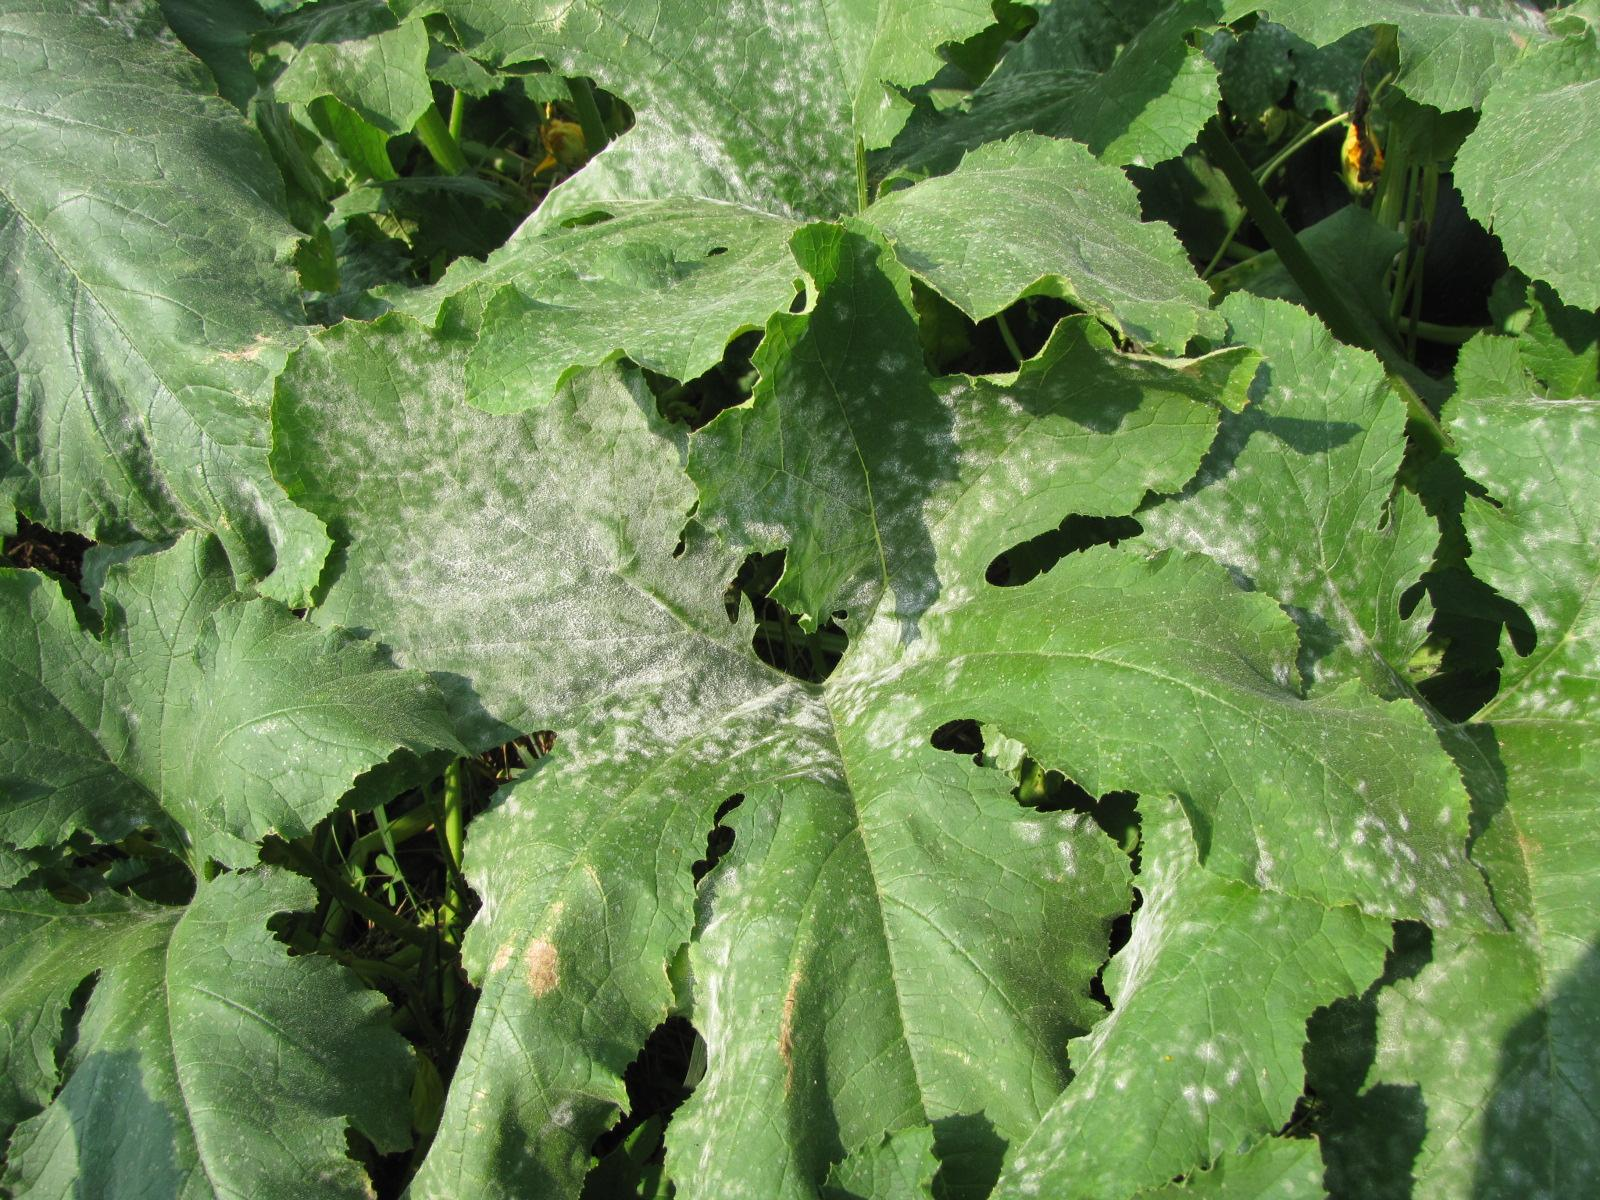Squash Powdery mildew leaf: (249, 296, 1502, 1200), (6, 1, 393, 563), (409, 1, 1008, 208), (857, 125, 1266, 371), (406, 184, 823, 392)
